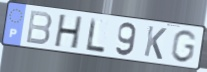9: (115, 21, 138, 57)
B: (24, 9, 54, 46)
G: (169, 29, 199, 64)
H: (52, 14, 85, 51)
K: (142, 25, 168, 62)
L: (85, 17, 106, 54)
